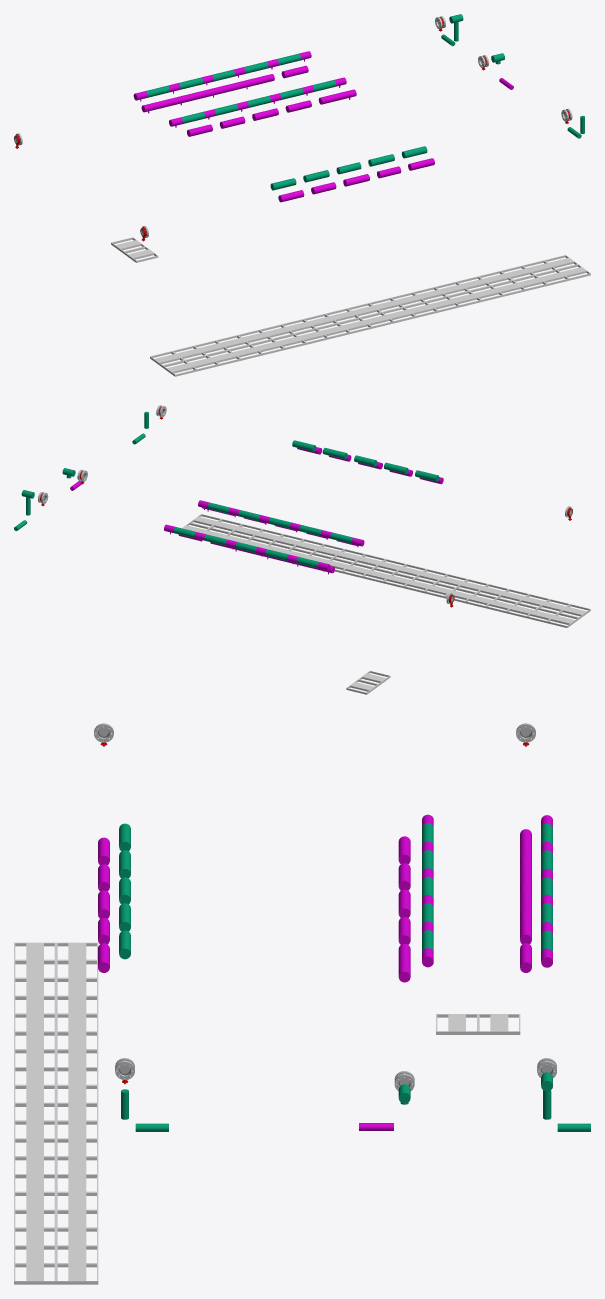
3 views of the same model, one above another, from view 1: azimuth 30°, elevation 25°; view 2: azimuth 150°, elevation 25°; view 3: azimuth 270°, elevation 25° (orthographic). The views are drawn at different scales.
Size of the model in its own units: 12.4 by 3.64 by 8.2.
